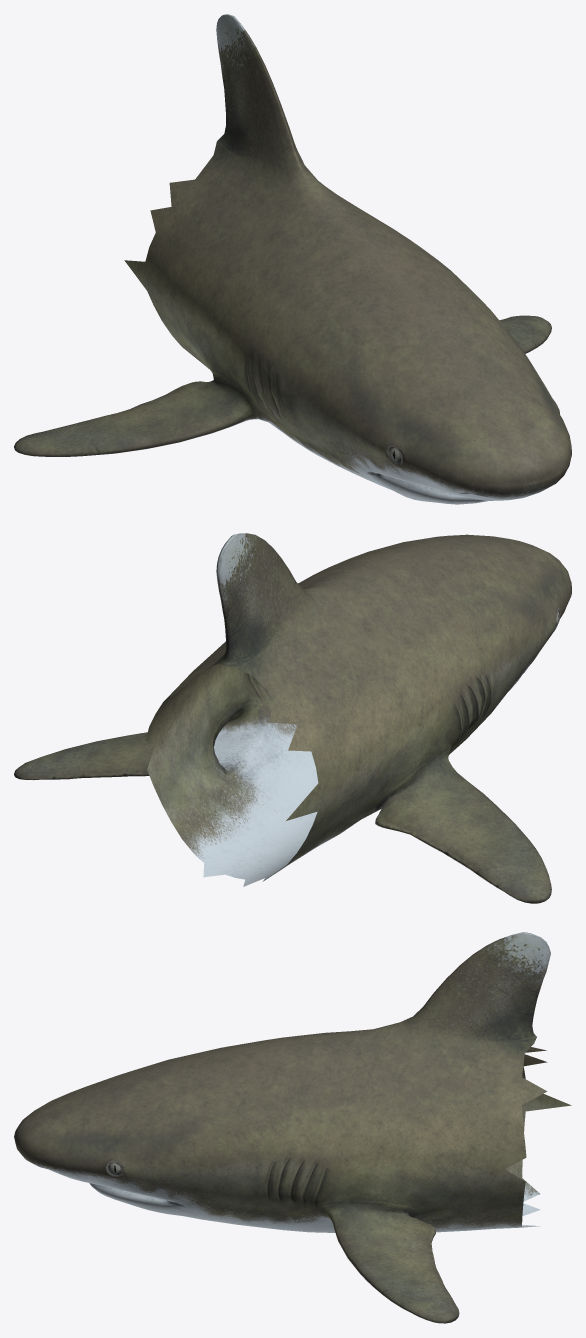
Rendered from Tiburon1.obj.
The picture shows the model from 3 angles, top to bottom: view 1: azimuth 30°, elevation 25°; view 2: azimuth 150°, elevation 25°; view 3: azimuth 270°, elevation 25°; orthographic projection. The views are drawn at different scales.
Parts seen in each view (by area): view 1: white_tip_shark_LOD2.004; view 2: white_tip_shark_LOD2.004; view 3: white_tip_shark_LOD2.004.
Boxes of the visible parts, x1=… form: white_tip_shark_LOD2.004: x1=14, y1=14, x2=571, y2=504; white_tip_shark_LOD2.004: x1=14, y1=533, x2=571, y2=903; white_tip_shark_LOD2.004: x1=14, y1=932, x2=571, y2=1323.
Size of the model in its own units: 72.23 by 45.7 by 78.16.
